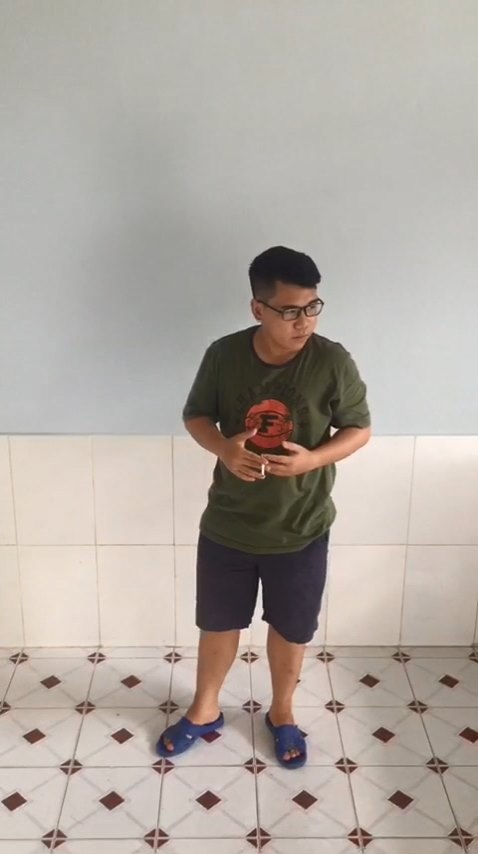cigarette: (258, 453, 274, 480)
person: (128, 206, 373, 789)
